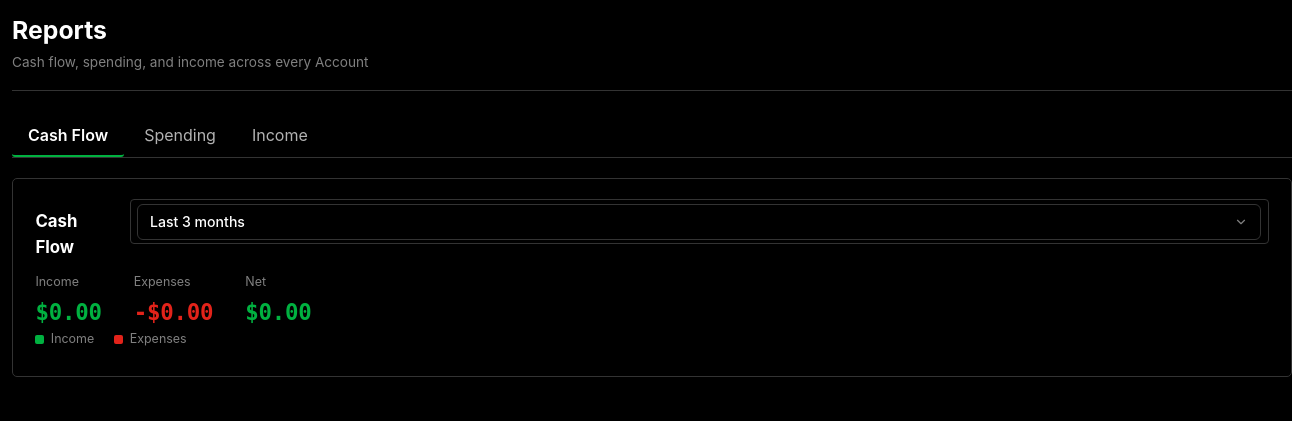
ReportsScreen Income tab › shows an empty state when there is no income in the selected range
This screenshot has width=1292, height=421.
Click the tab "Income" at (280, 136), box [236,115,324,157]
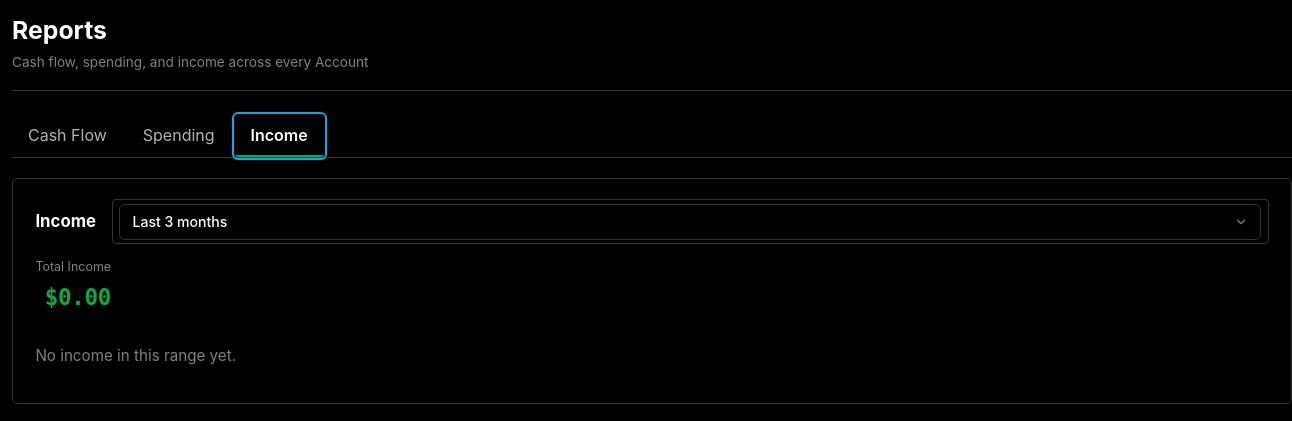
Check: the text "No income in this range yet." is shown, box [35,346,236,365]
